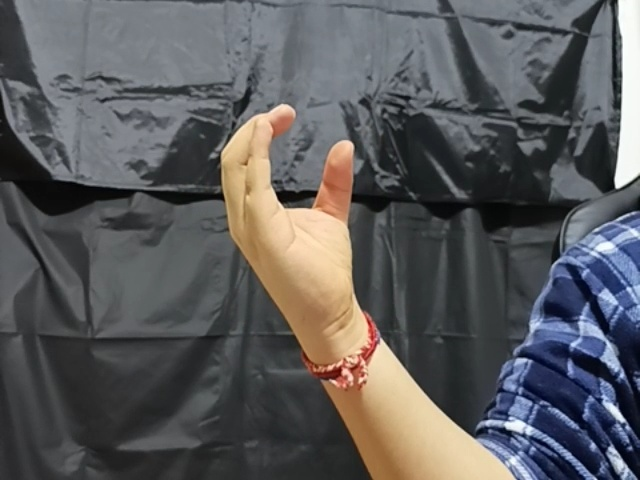C: (215, 103, 366, 322)
